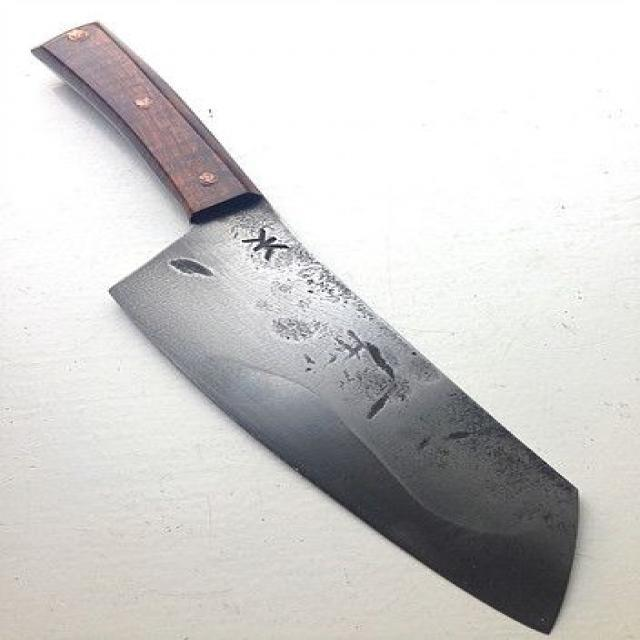cleaver: (28, 16, 576, 632)
